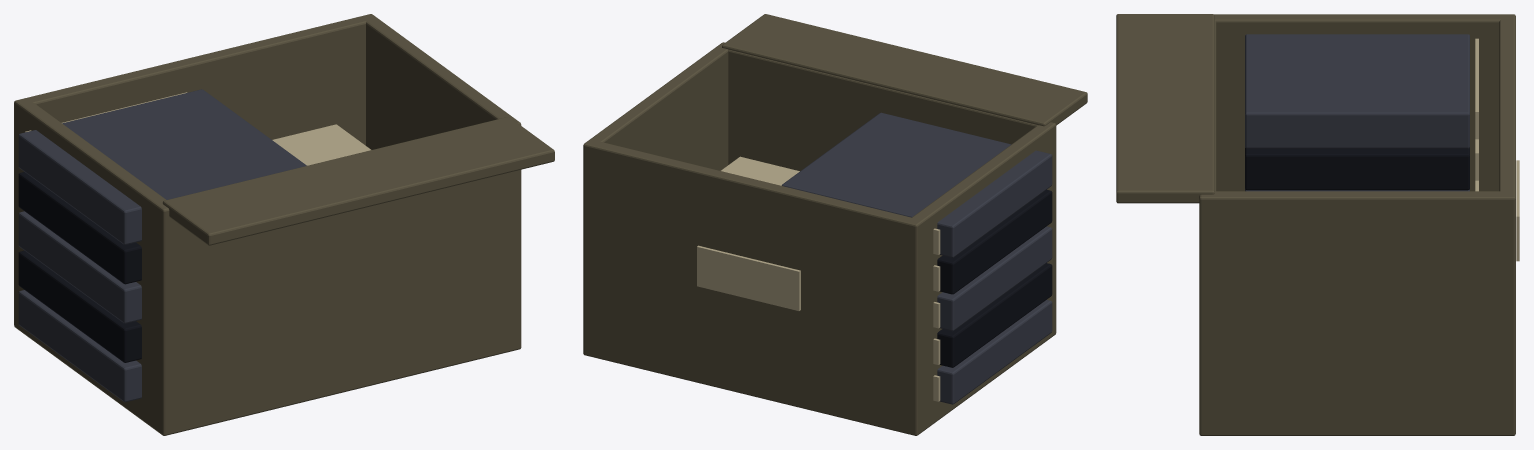
The model's file is archive_box_manuals.glb.
3 views of the same model, side by side, from view 1: azimuth 30°, elevation 25°; view 2: azimuth 150°, elevation 25°; view 3: azimuth 270°, elevation 25° (orthographic). The views are drawn at different scales.
Visible parts, largest first — view 1: archive_box_manuals; view 2: archive_box_manuals; view 3: archive_box_manuals.
Part boxes in pixels (left/top/right/bottom): archive_box_manuals: left=14, top=14, right=554, bottom=435; archive_box_manuals: left=583, top=14, right=1087, bottom=435; archive_box_manuals: left=1116, top=14, right=1519, bottom=435.
Bounding box in the file's own units: 0.65 × 0.38 × 0.5735.
